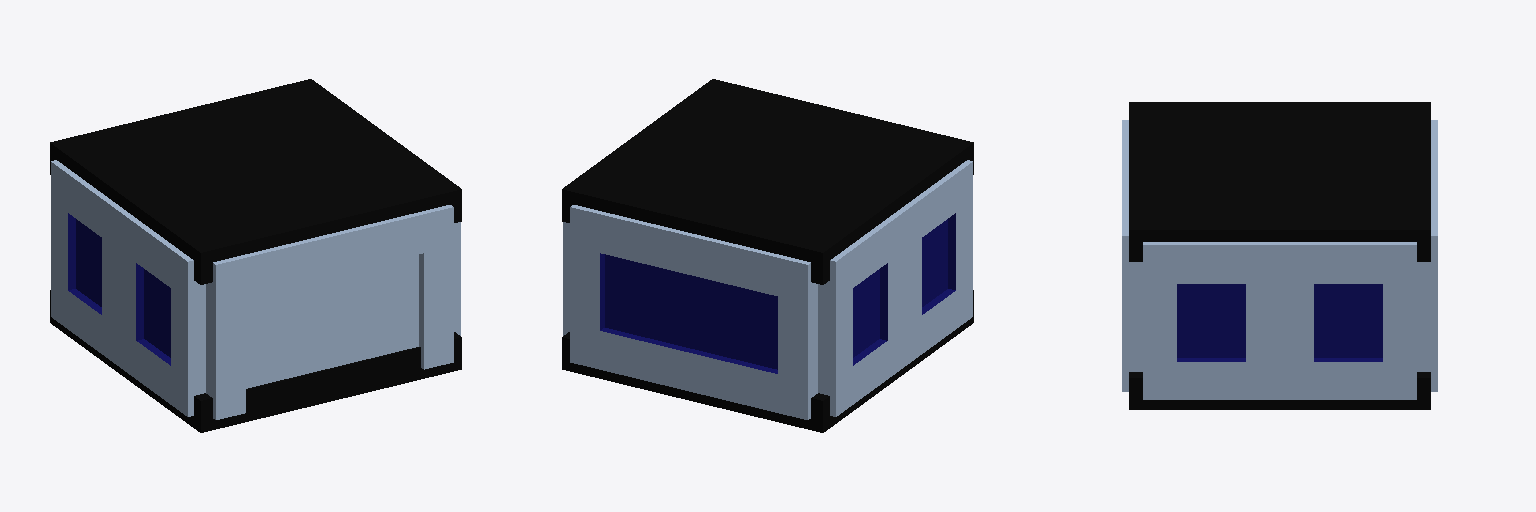
3 renders of one model, left to right at view 1: azimuth 30°, elevation 25°; view 2: azimuth 150°, elevation 25°; view 3: azimuth 270°, elevation 25°, orthographic.
Parts seen in each view (by area): view 1: BasicFloor_1_Cube.004, BasicWall_4_Cube.003, BasicWall_2.001_Cube.006, BasicFloor_2_Cube.005, BasicWall_2_Cube.002; view 2: BasicFloor_1_Cube.004, BasicWall_3_Cube.001, BasicWall_2.001_Cube.006, BasicFloor_2_Cube.005, BasicWall_2_Cube.002; view 3: BasicWall_2_Cube.002, BasicFloor_1_Cube.004, BasicFloor_2_Cube.005, BasicWall_3_Cube.001, BasicWall_4_Cube.003.
Boxes of the visible parts, x1=… form: BasicFloor_1_Cube.004: x1=50, y1=79, x2=461, y2=284; BasicWall_4_Cube.003: x1=206, y1=205, x2=453, y2=419; BasicWall_2.001_Cube.006: x1=51, y1=160, x2=205, y2=416; BasicFloor_2_Cube.005: x1=50, y1=290, x2=461, y2=432; BasicWall_2_Cube.002: x1=454, y1=222, x2=460, y2=335; BasicFloor_1_Cube.004: x1=562, y1=79, x2=973, y2=284; BasicWall_3_Cube.001: x1=570, y1=205, x2=817, y2=419; BasicWall_2.001_Cube.006: x1=818, y1=160, x2=972, y2=416; BasicFloor_2_Cube.005: x1=562, y1=290, x2=973, y2=432; BasicWall_2_Cube.002: x1=563, y1=222, x2=569, y2=335; BasicWall_2_Cube.002: x1=1143, y1=242, x2=1416, y2=399; BasicFloor_1_Cube.004: x1=1129, y1=102, x2=1430, y2=261; BasicFloor_2_Cube.005: x1=1129, y1=372, x2=1430, y2=409; BasicWall_3_Cube.001: x1=1417, y1=120, x2=1437, y2=391; BasicWall_4_Cube.003: x1=1122, y1=120, x2=1142, y2=391.
Size of the model in its own units: 4.6 by 2.9 by 4.6.
2 materials, 1 textured.